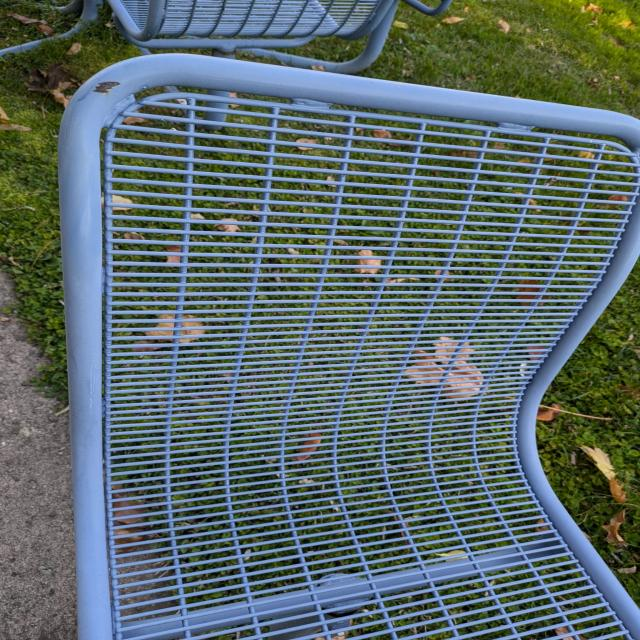Filiform Corrosion: (94, 82, 121, 96)
